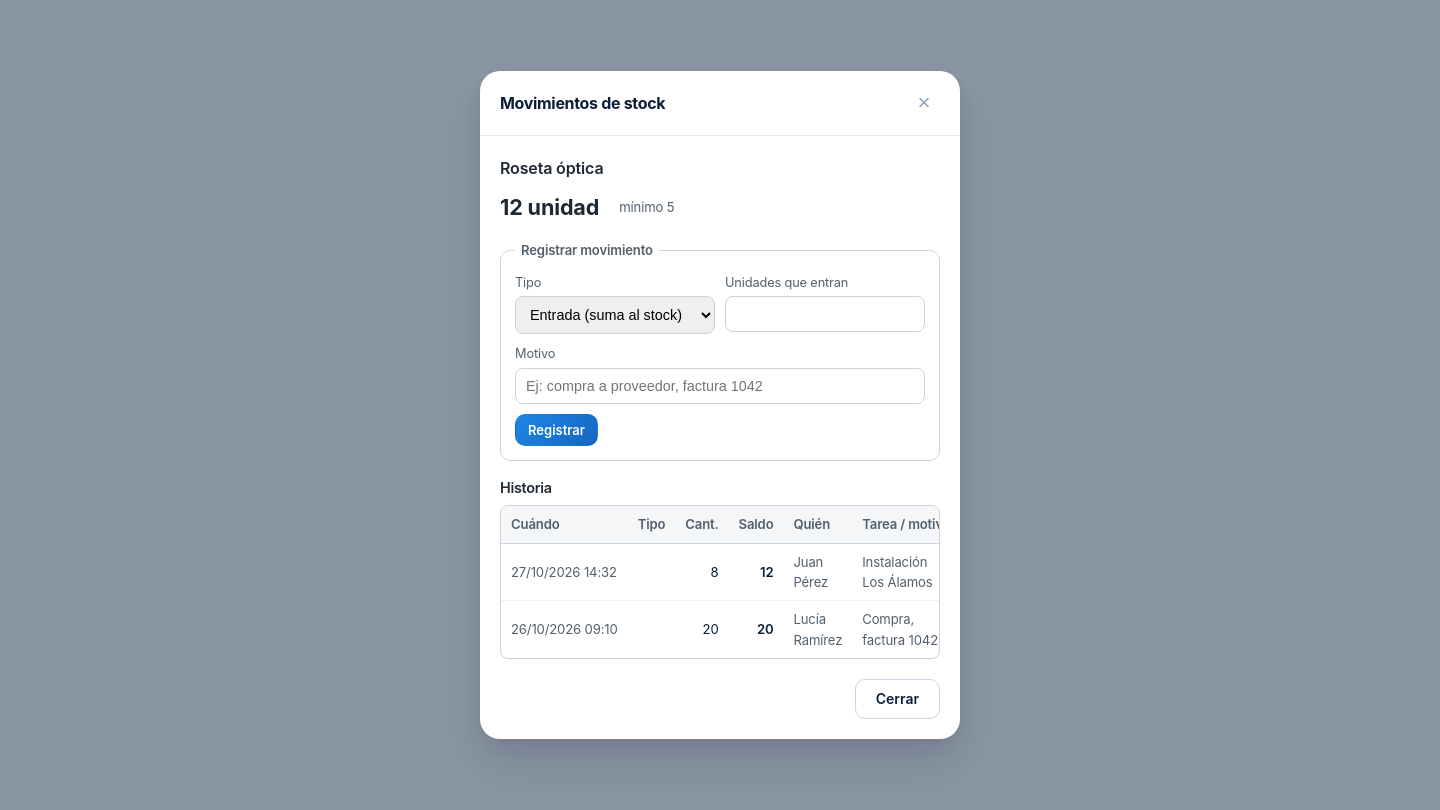
Test case: ModalMovimientosMaterial › un ajuste sin motivo no se envía
This screenshot has width=1440, height=810.
Expected: the text "Instalación Los Álamos" is shown, x1=852 y1=543 x2=940 y2=601
Select "Ajuste (fija el stock)" in the dropdown labelled "Tipo" at (615,315), box x1=515 y1=296 x2=715 y2=334
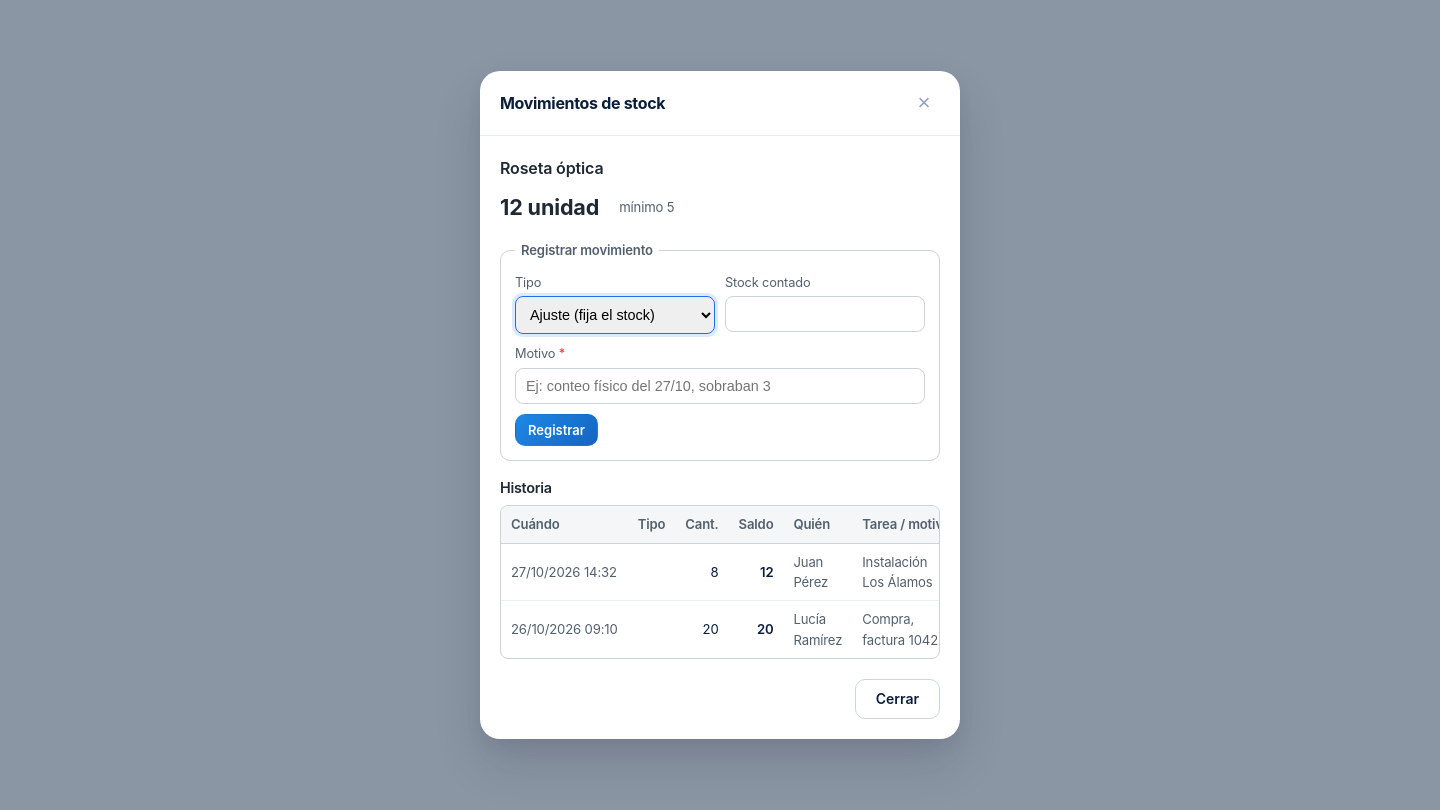
Type "9" into the number field labelled "Stock contado".
click(825, 314); type("9")  # box x1=725 y1=296 x2=925 y2=332
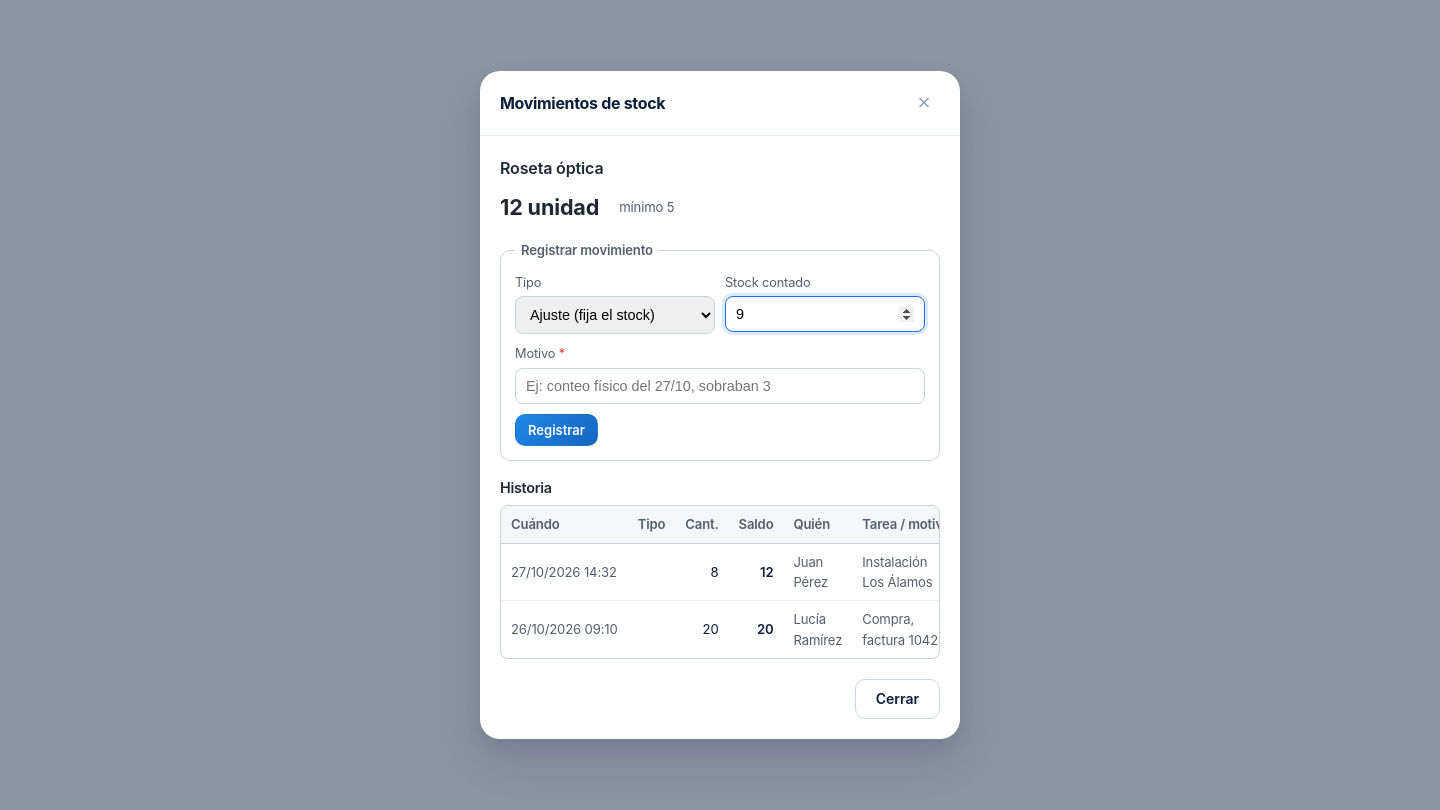
Click the button "Registrar".
click(556, 430)  # box x1=515 y1=414 x2=598 y2=446
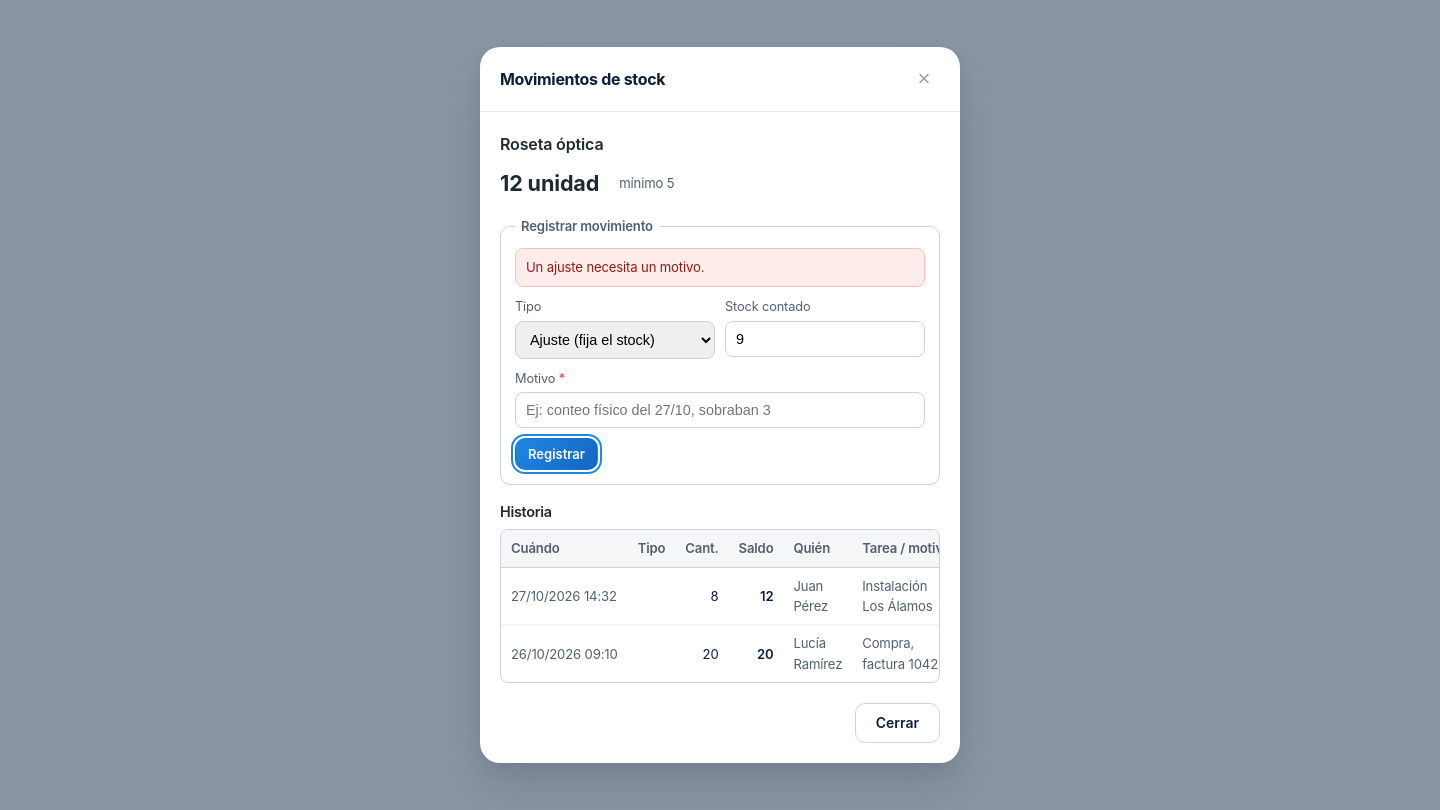
Now the message shows "motivo", box x1=526 y1=259 x2=704 y2=275
